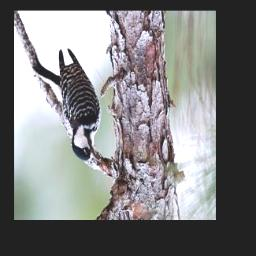Woodpecker: (32, 48, 105, 166)
